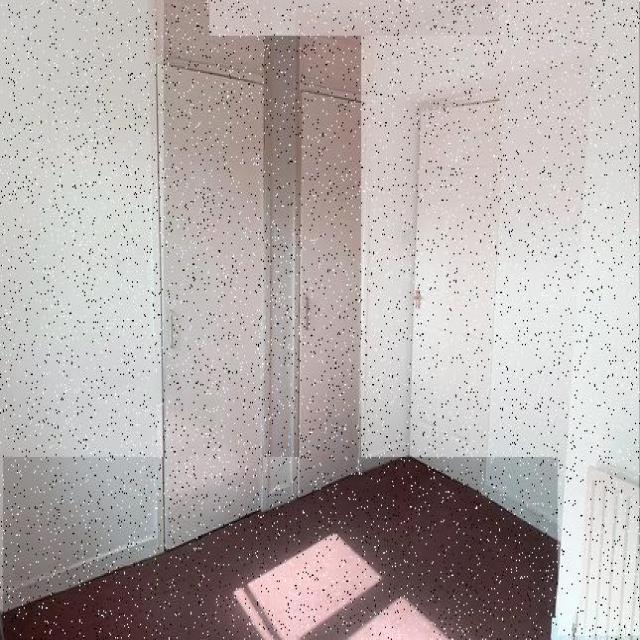Wall: (361, 0, 640, 636), (4, 458, 558, 640), (0, 0, 164, 610), (264, 4, 300, 506), (210, 0, 499, 36)
